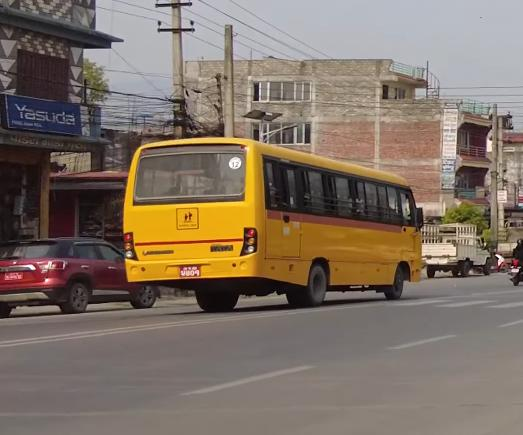car: (0, 238, 157, 314)
school_bus: (121, 133, 426, 312)
transport_vehicle: (421, 218, 494, 279)
